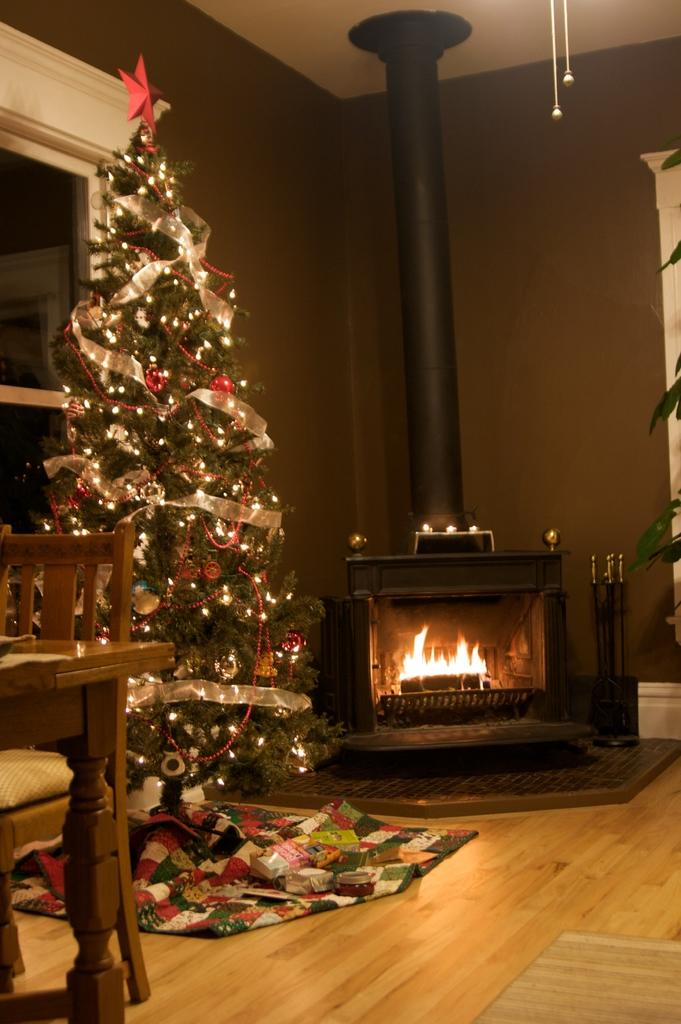Fire: (391, 622, 506, 687)
